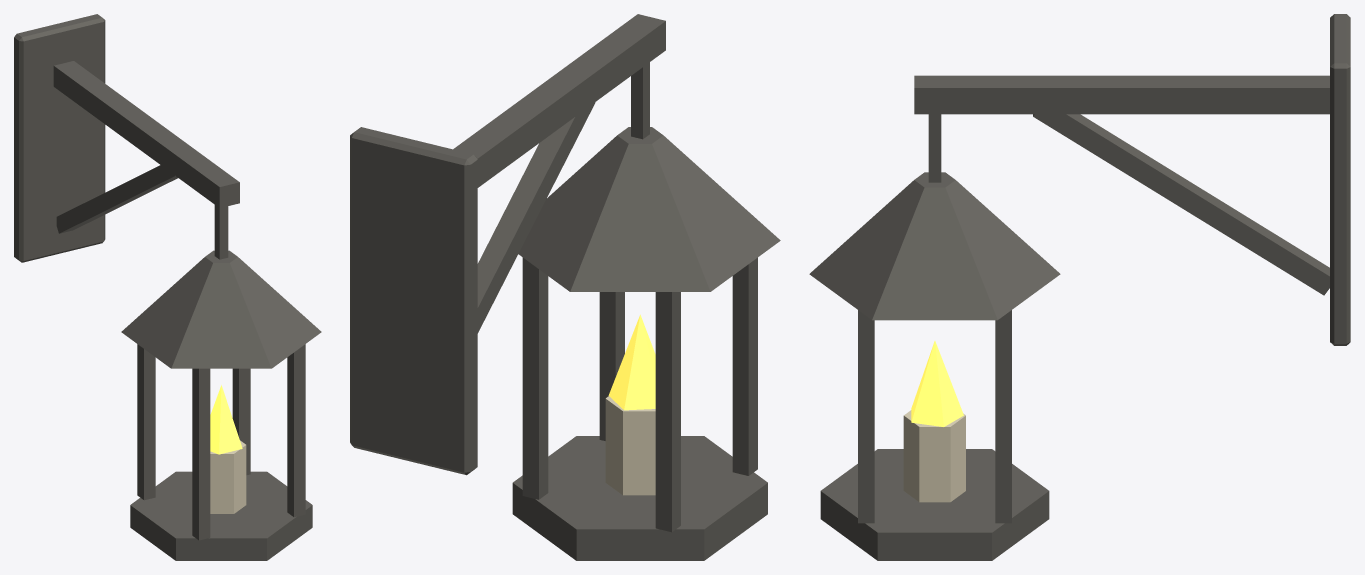
The model's file is lantern_wall.glb.
The picture shows the model from 3 angles, left to right: view 1: azimuth 30°, elevation 25°; view 2: azimuth 150°, elevation 25°; view 3: azimuth 270°, elevation 25°; orthographic projection. The views are drawn at different scales.
Visible parts, largest first — view 1: Lantern_Wall; view 2: Lantern_Wall; view 3: Lantern_Wall.
Part boxes in pixels (left/top/right/bottom): Lantern_Wall: left=14, top=14, right=321, bottom=560; Lantern_Wall: left=350, top=14, right=780, bottom=560; Lantern_Wall: left=809, top=14, right=1350, bottom=560.
Bounding box in the file's own units: 0.2096 × 0.51 × 0.521.
